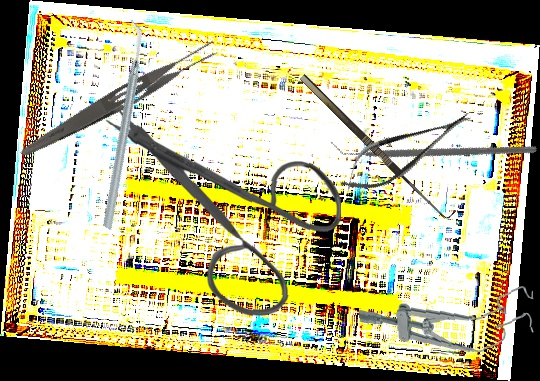Chopper: (330, 49, 538, 243), (27, 18, 215, 232)
Dressing Forceps: (16, 34, 223, 168)
Hook Surgical: (299, 66, 457, 224)
Iris Scissors: (104, 99, 343, 321)
Micro Scissor: (330, 97, 482, 205)
Speculum: (357, 283, 538, 362)
